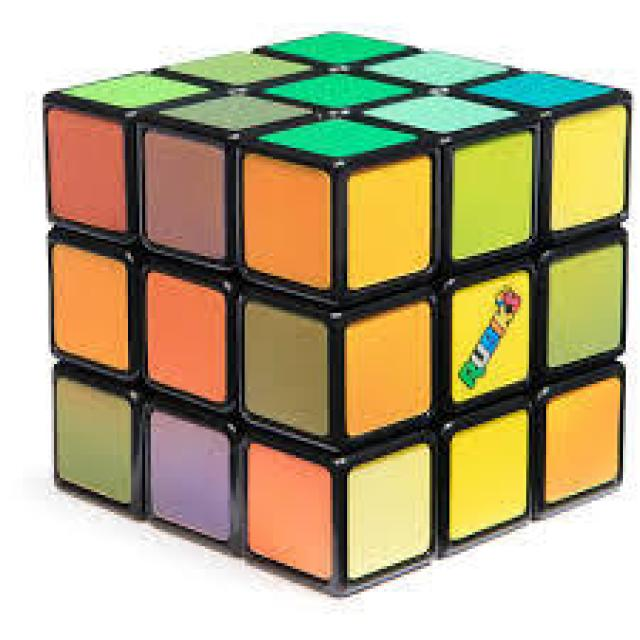Cubo-No-resuelto: (48, 34, 623, 592)
